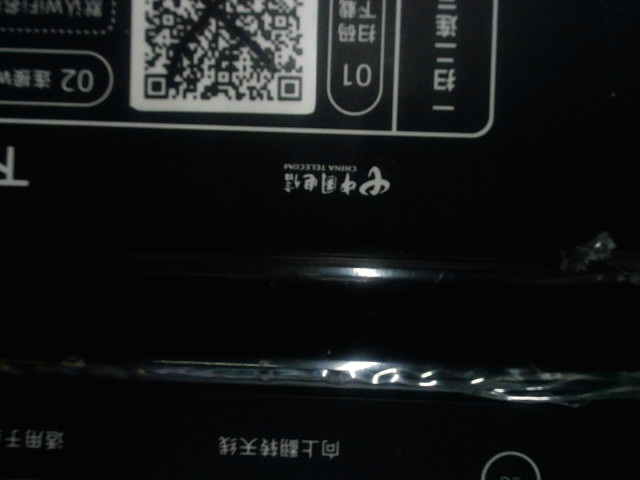AB_ChinaTelecom: (274, 160, 405, 201)
